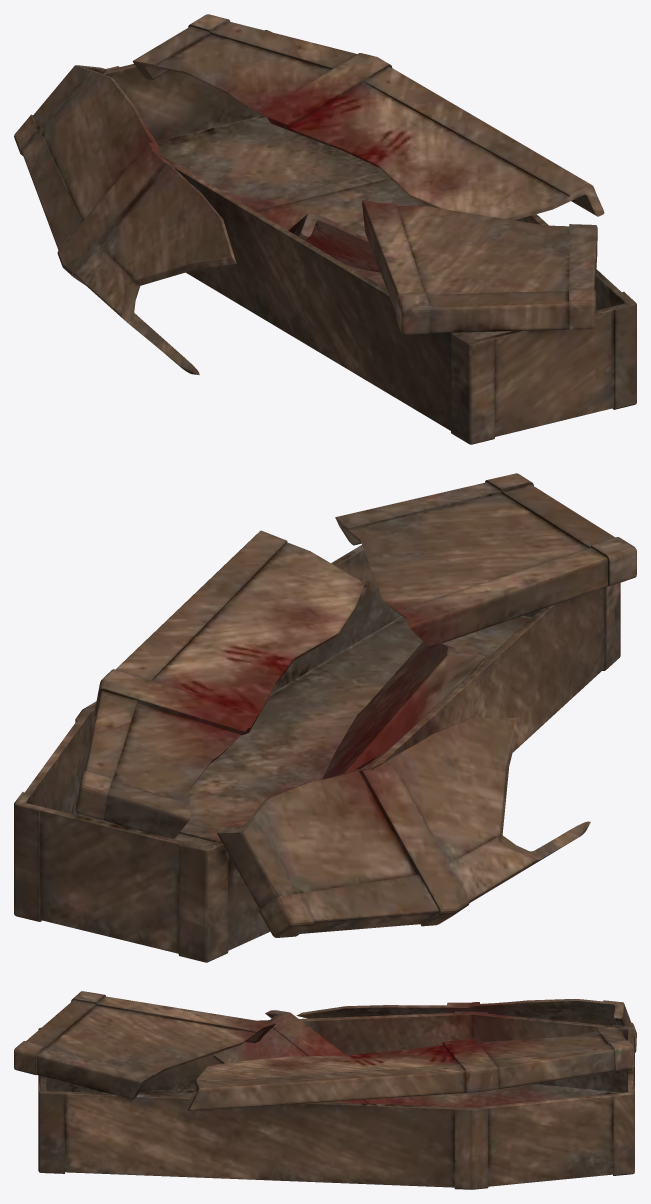
Rendered from coffinb.glb.
3 views of the same model, one above another, from view 1: azimuth 30°, elevation 25°; view 2: azimuth 150°, elevation 25°; view 3: azimuth 270°, elevation 25° (orthographic). The views are drawn at different scales.
Parts seen in each view (by area): view 1: Coffin_low_Coffin_texture_0; view 2: Coffin_low_Coffin_texture_0; view 3: Coffin_low_Coffin_texture_0.
Boxes of the visible parts, x1=… form: Coffin_low_Coffin_texture_0: x1=14, y1=14, x2=636, y2=444; Coffin_low_Coffin_texture_0: x1=14, y1=473, x2=636, y2=962; Coffin_low_Coffin_texture_0: x1=14, y1=991, x2=636, y2=1189.
Bounding box in the file's own units: 40.39 × 16.09 × 75.02.
1 material, 1 textured.
